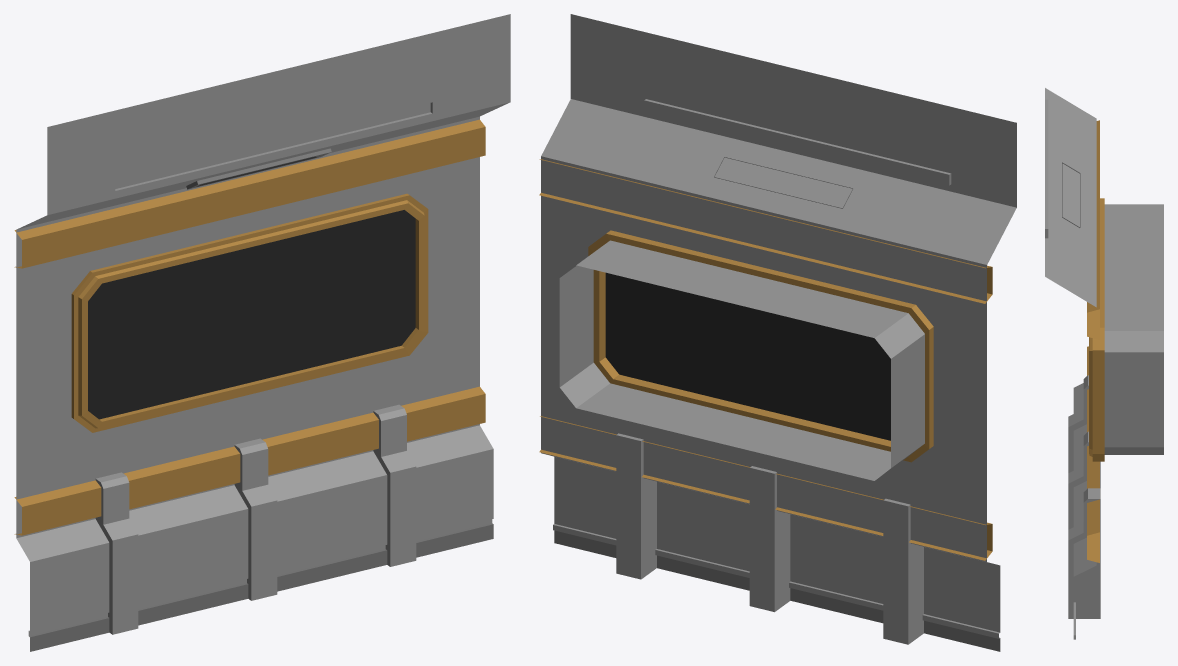
Rendered from window-wall-sidea-ed77bf8701.glb.
3 views of the same model, side by side, from view 1: azimuth 30°, elevation 25°; view 2: azimuth 150°, elevation 25°; view 3: azimuth 270°, elevation 25° (orthographic). The views are drawn at different scales.
Parts seen in each view (by area): view 1: Window_Wall_SideA.obj; view 2: Window_Wall_SideA.obj; view 3: Window_Wall_SideA.obj.
Boxes of the visible parts, left/top/right/bottom form: Window_Wall_SideA.obj: left=14, top=14, right=510, bottom=651; Window_Wall_SideA.obj: left=539, top=14, right=1016, bottom=651; Window_Wall_SideA.obj: left=1045, top=88, right=1163, bottom=639.
Size of the model in its own units: 4 by 4.43 by 1.06.
